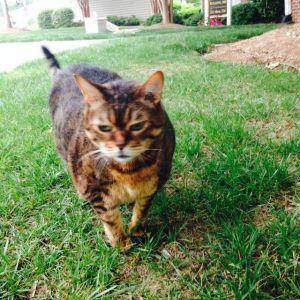bengal: (74, 69, 173, 171)
